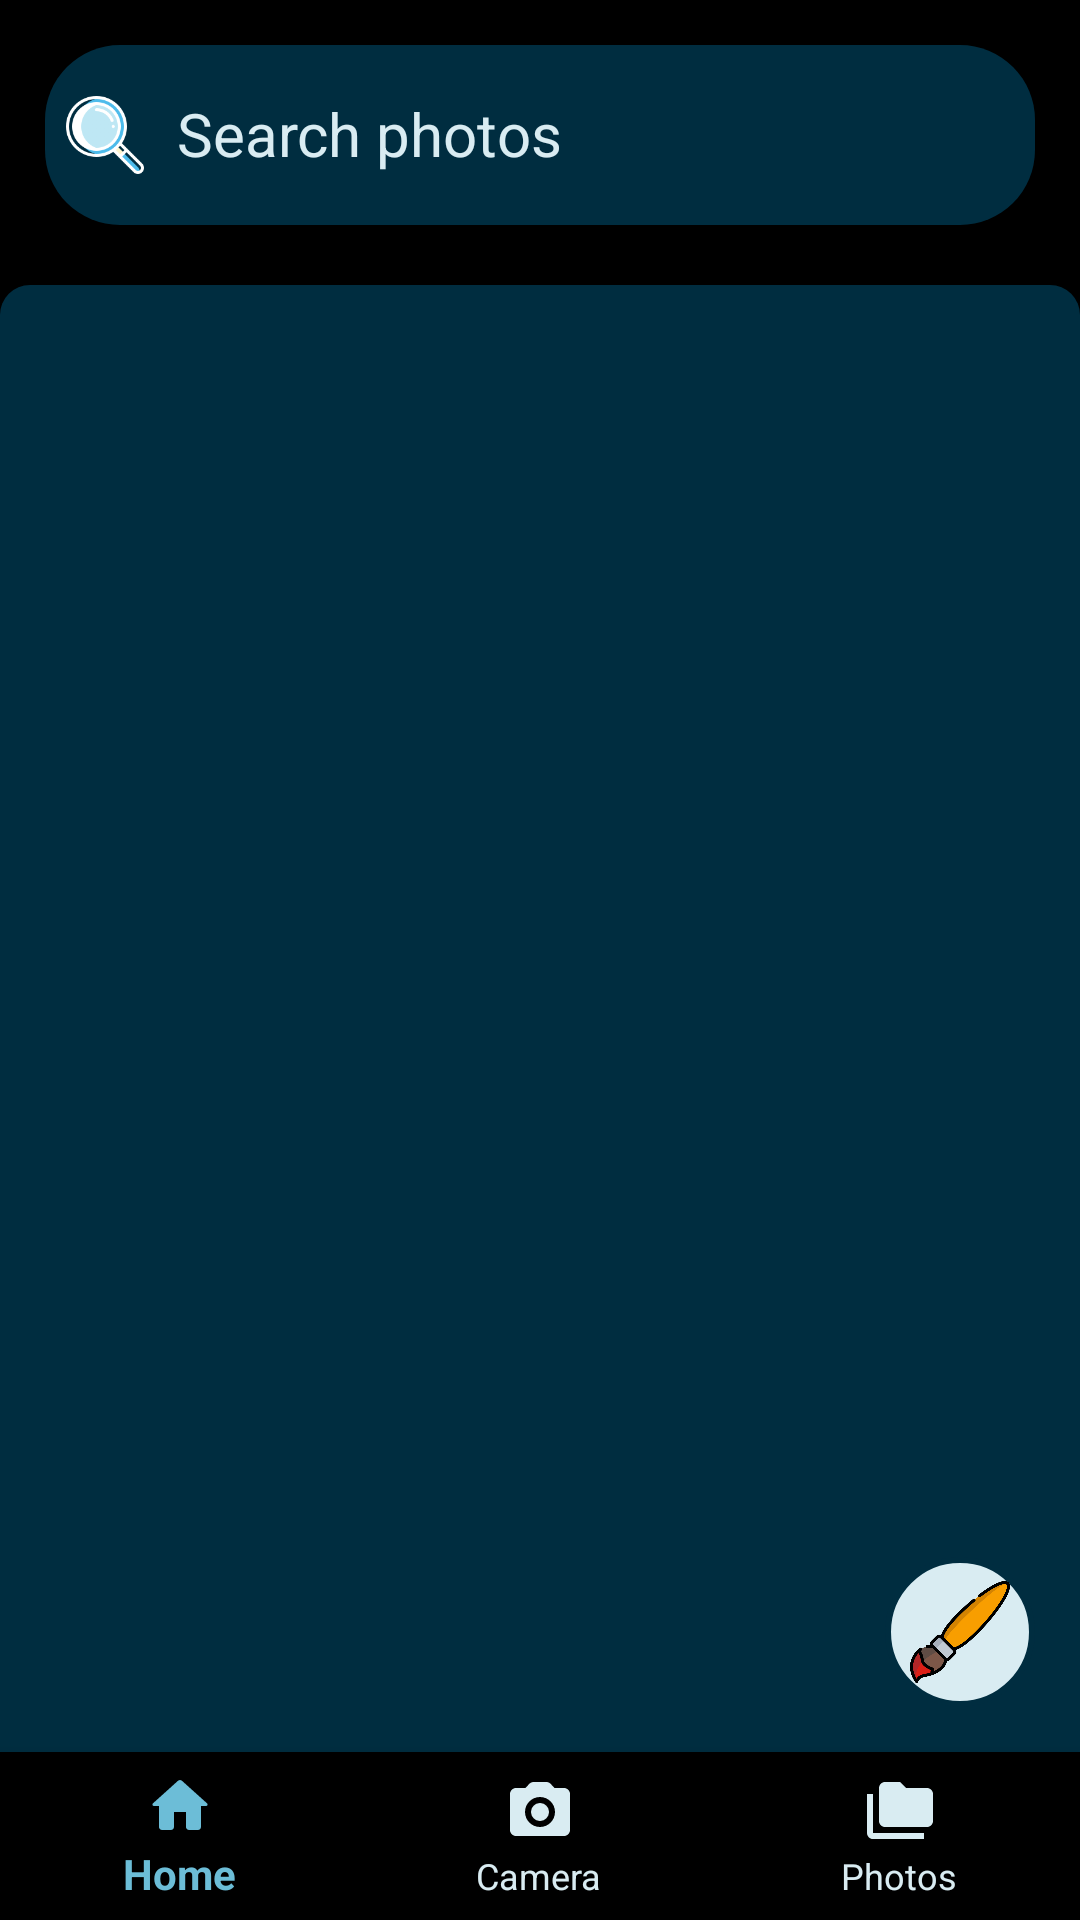

Icons on this 1080 x 1920 Android screen, each with the point to tap as (x=x, y=y):
paint brush: (x=960, y=1632)
